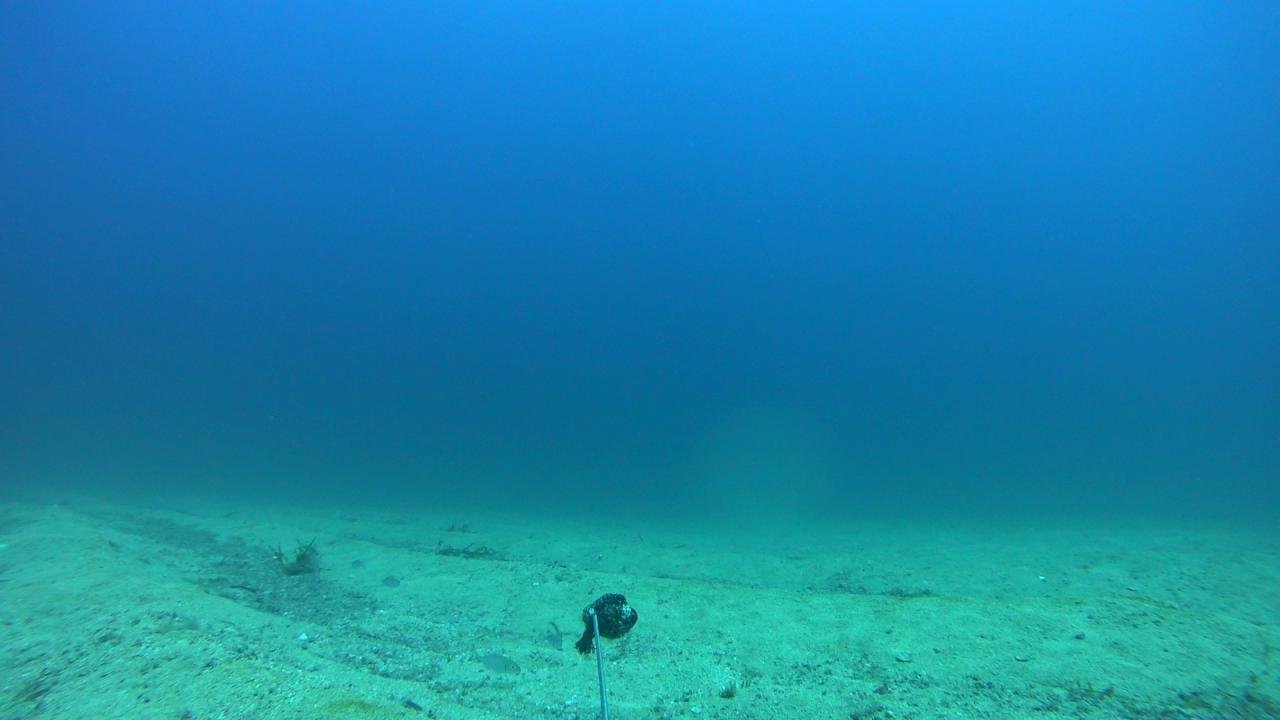pagellus: (468, 646, 521, 676)
